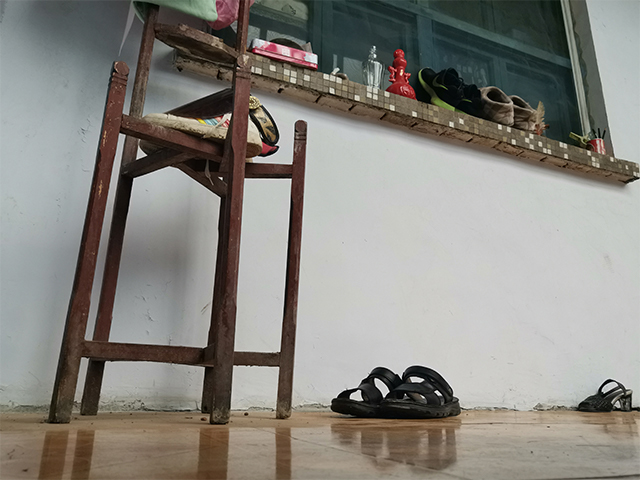slippers: (378, 363, 470, 417), (328, 367, 397, 415)
